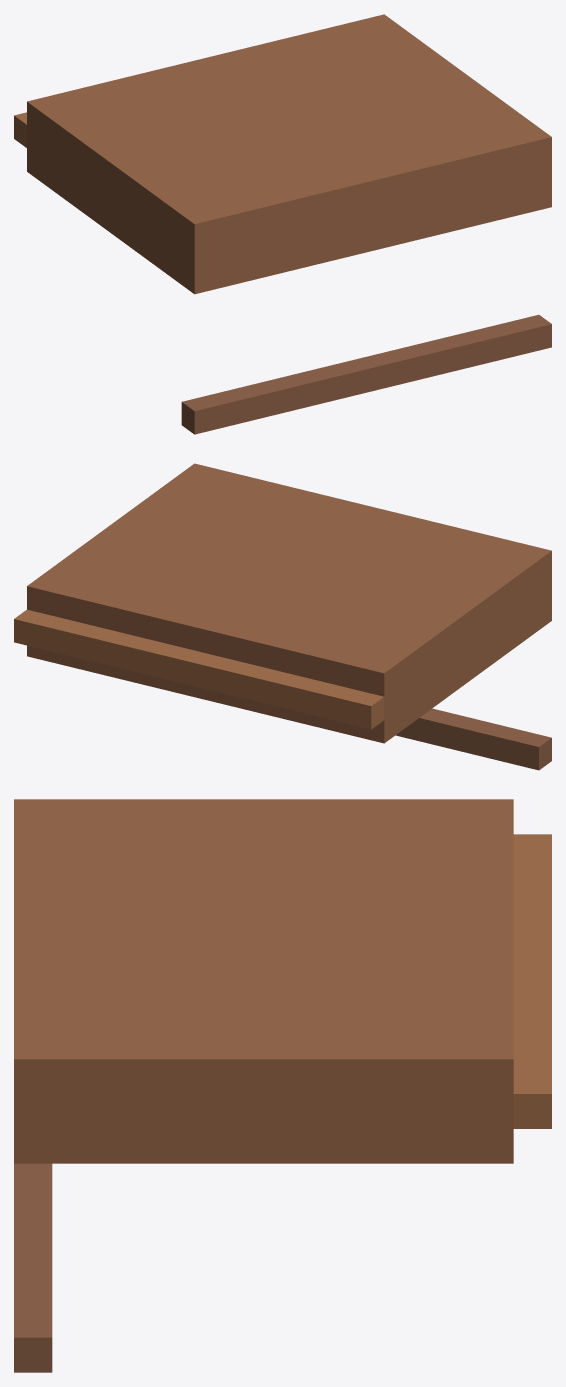
Rendered from Interior_Furniture-31.obj.
The picture shows the model from 3 angles, top to bottom: view 1: azimuth 30°, elevation 25°; view 2: azimuth 150°, elevation 25°; view 3: azimuth 270°, elevation 25°; orthographic projection. The views are drawn at different scales.
Bounding box in the file's own units: 1.6 × 0.9 × 1.4.
1 material, 1 textured.
